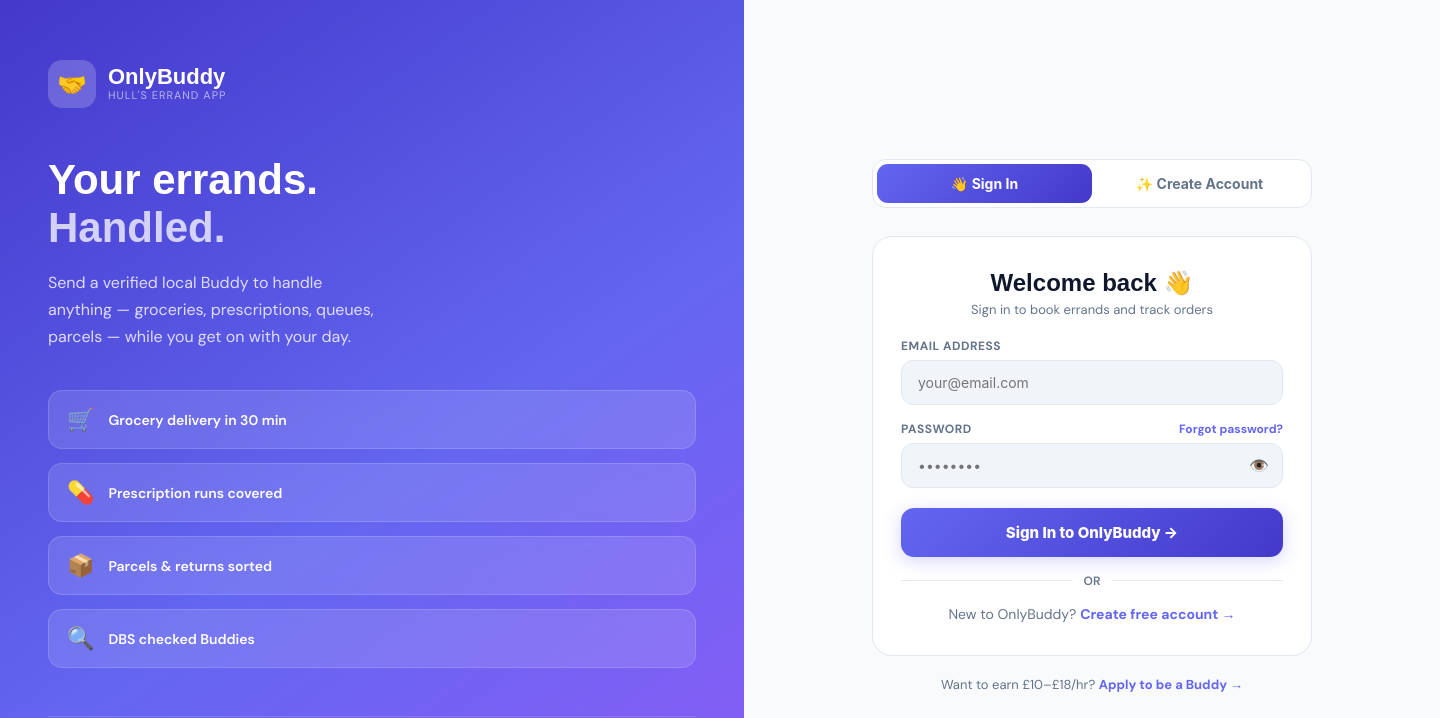
Login page › shows inline password mismatch error when passwords differ
Click the button "✨ Create Account": (1200, 183) x1=1092 y1=164 x2=1307 y2=203
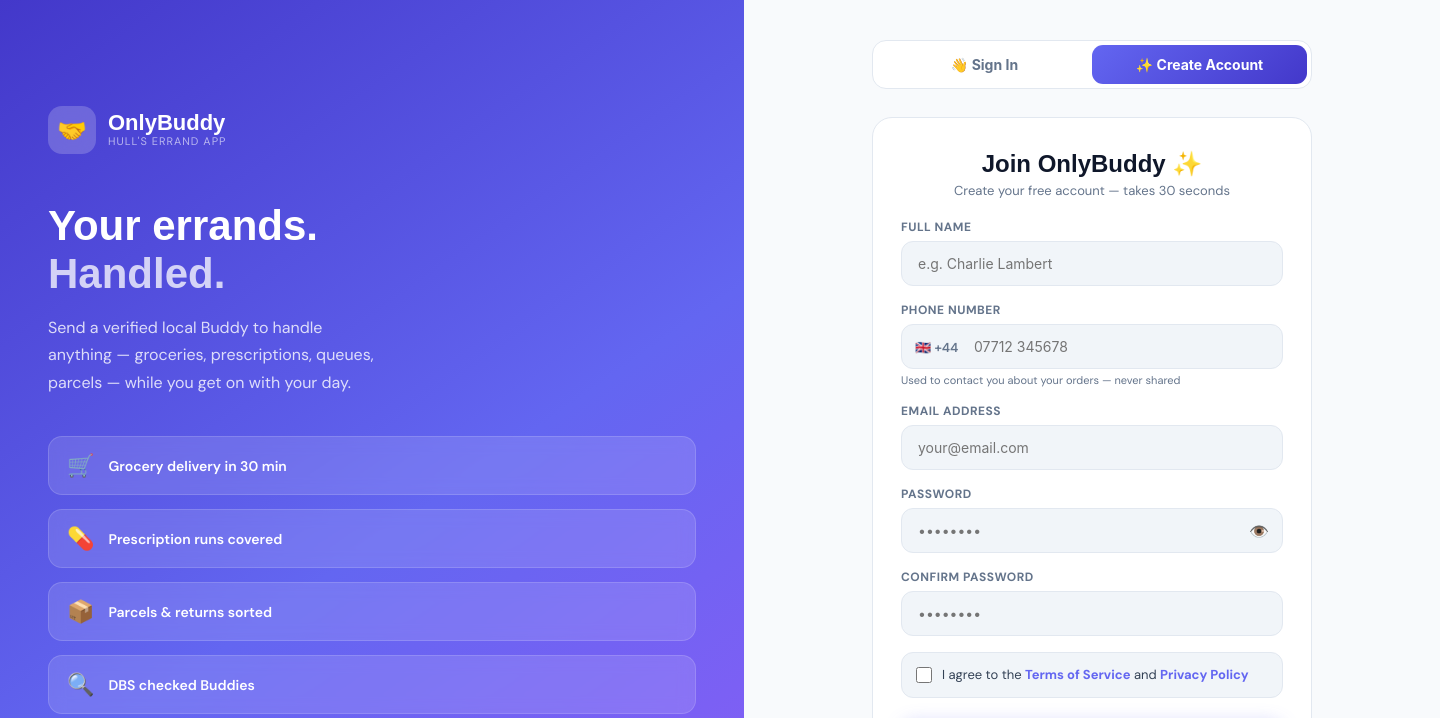
In the 1st password field with placeholder "••••••••": (1092, 530) x1=901 y1=508 x2=1283 y2=553, type "Password1!"
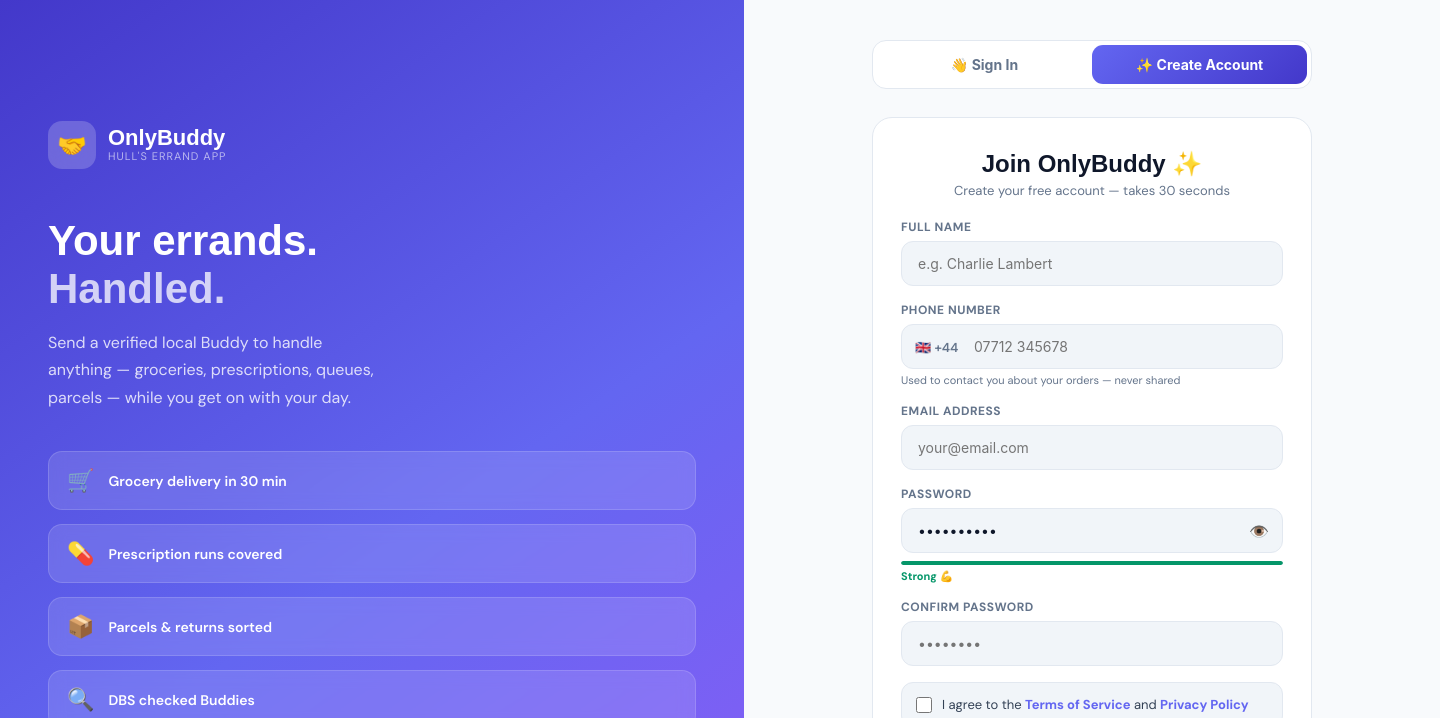
In the password field with placeholder "••••••••": (1092, 644) x1=901 y1=621 x2=1283 y2=666, type "Different1!"
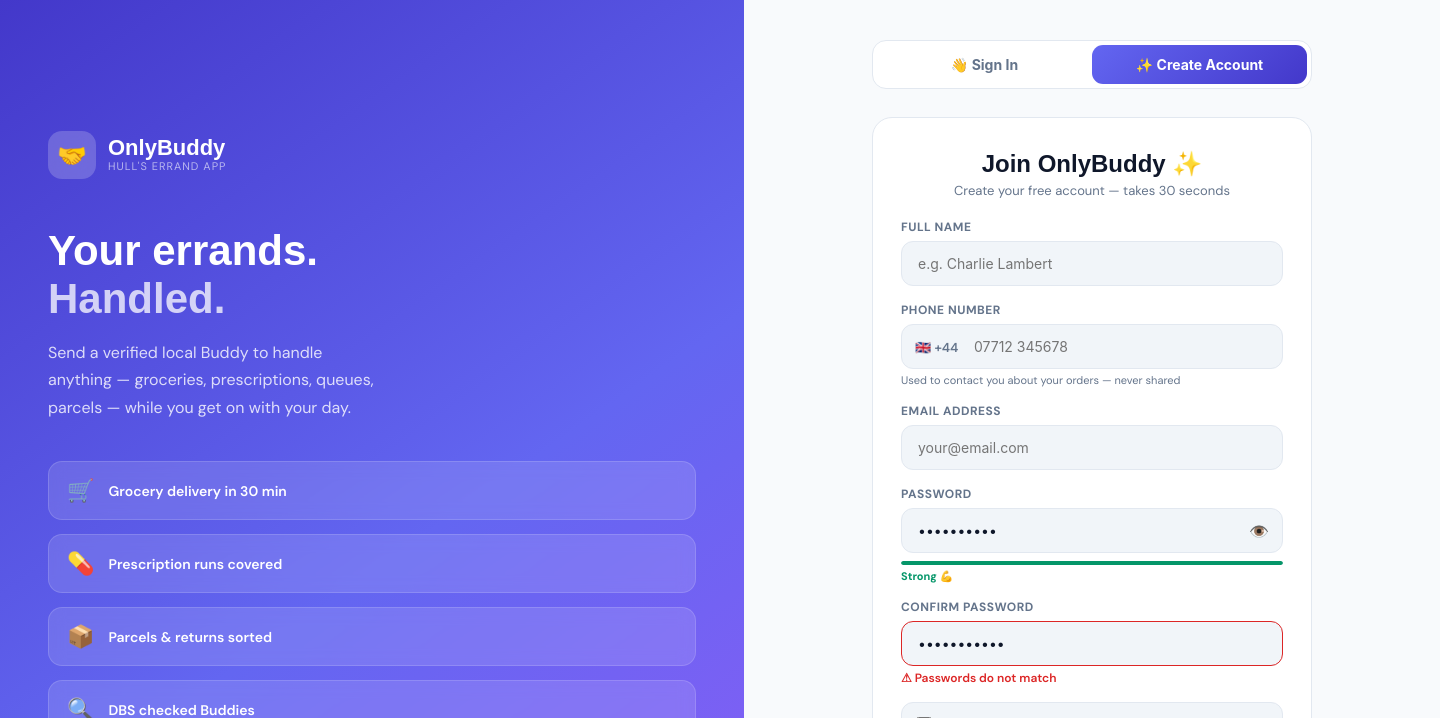
Result: the text "⚠ Passwords do not match" is shown at x1=901 y1=670 x2=1056 y2=686
